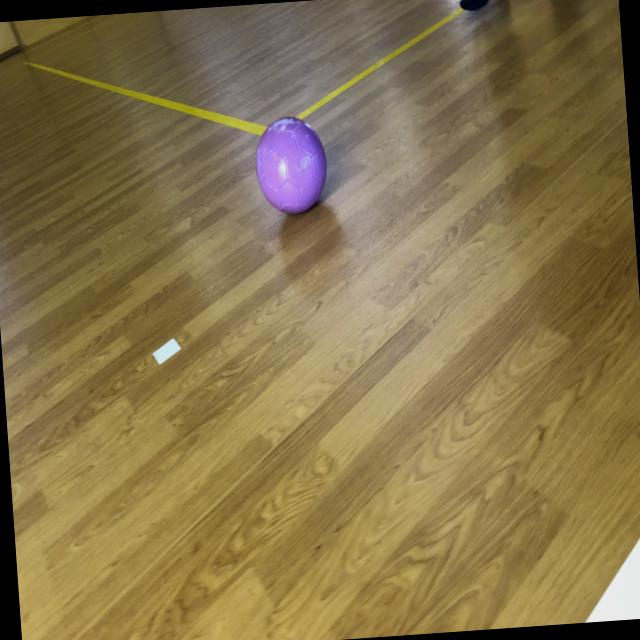purple_ball: (251, 115, 329, 215)
